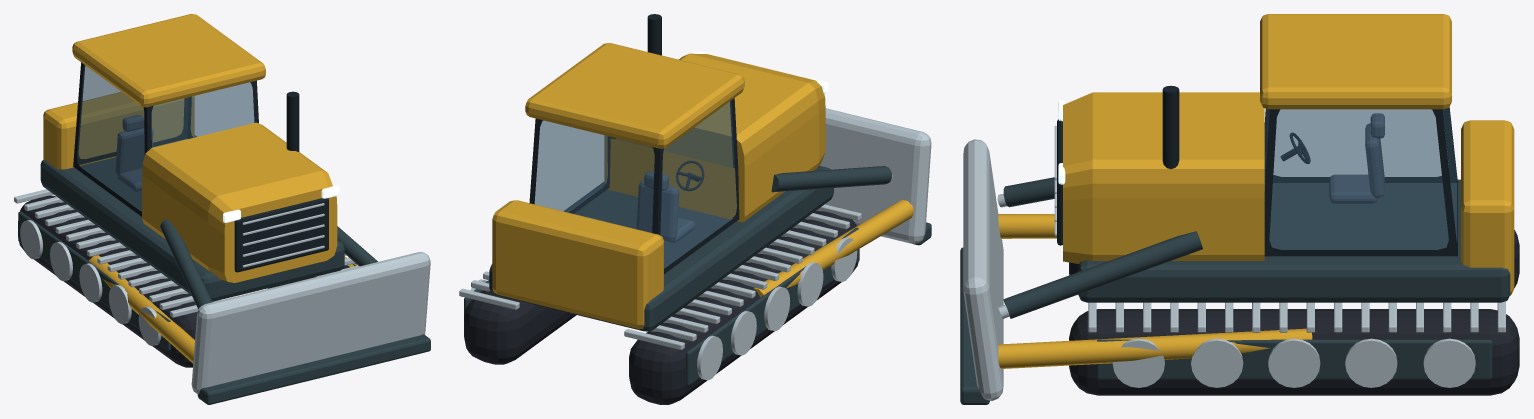
3 views of the same model, side by side, from view 1: azimuth 30°, elevation 25°; view 2: azimuth 150°, elevation 25°; view 3: azimuth 270°, elevation 25° (orthographic). The views are drawn at different scales.
Parts seen in each view (by area): view 1: Gerik Track Dozer; view 2: Gerik Track Dozer; view 3: Gerik Track Dozer.
Boxes of the visible parts, x1,y1,x2,y2 form: Gerik Track Dozer: (14, 14, 430, 404); Gerik Track Dozer: (459, 14, 931, 404); Gerik Track Dozer: (960, 14, 1519, 404).
Size of the model in its own units: 2.95 by 2.72 by 4.72.
